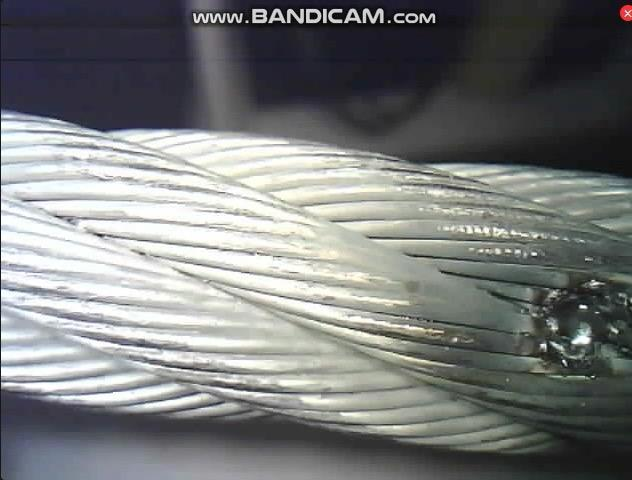thunderbolt: (488, 251, 632, 389)
